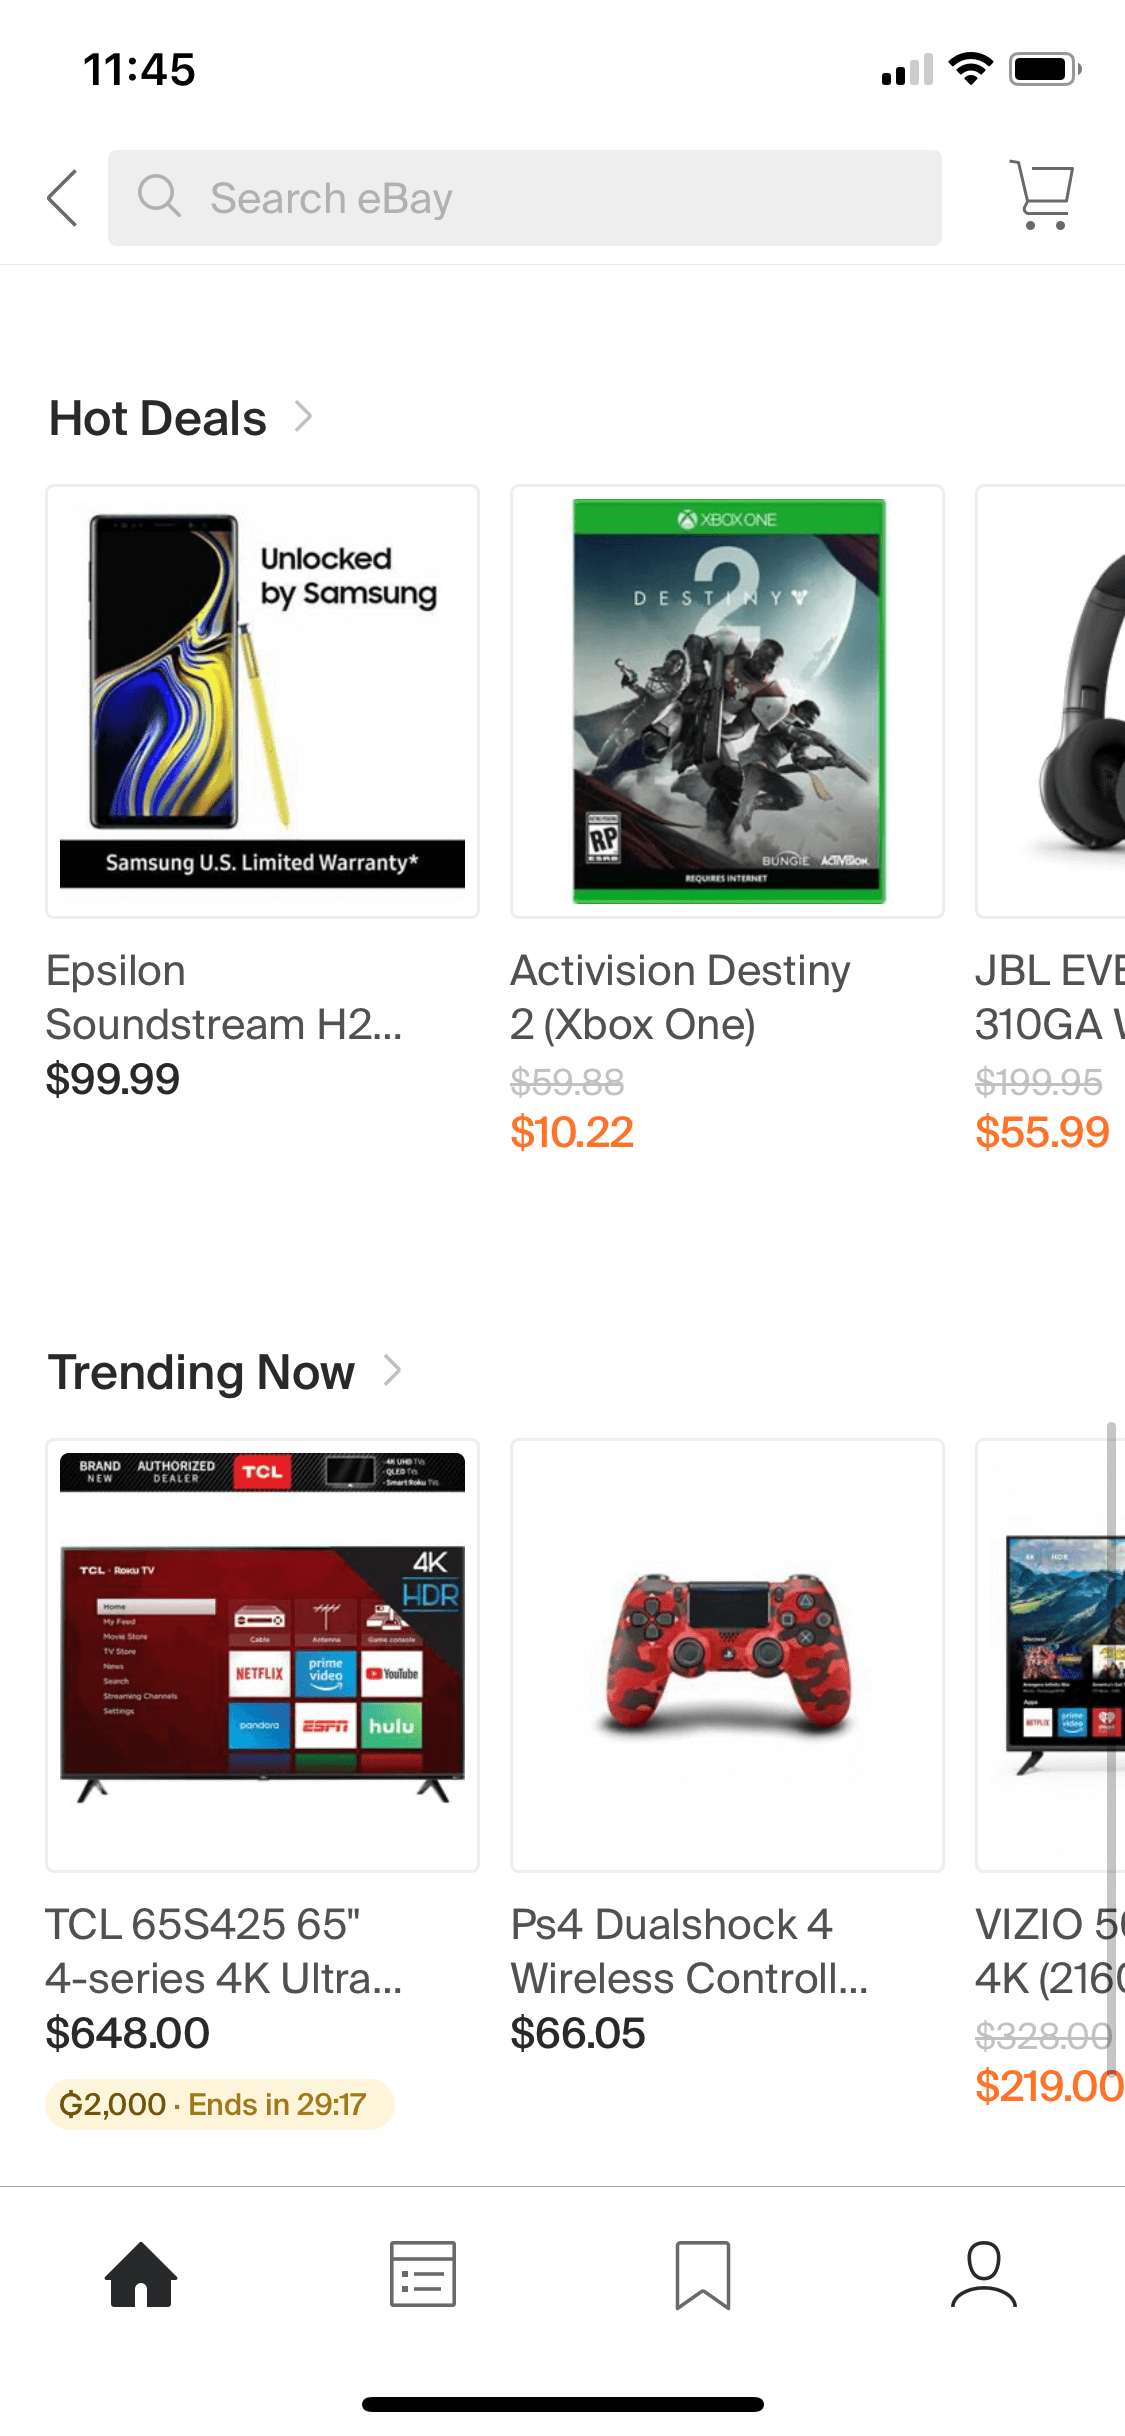Buttons: (26, 1321, 430, 1420), (28, 346, 357, 465), (982, 149, 1109, 255), (2, 149, 99, 253)
